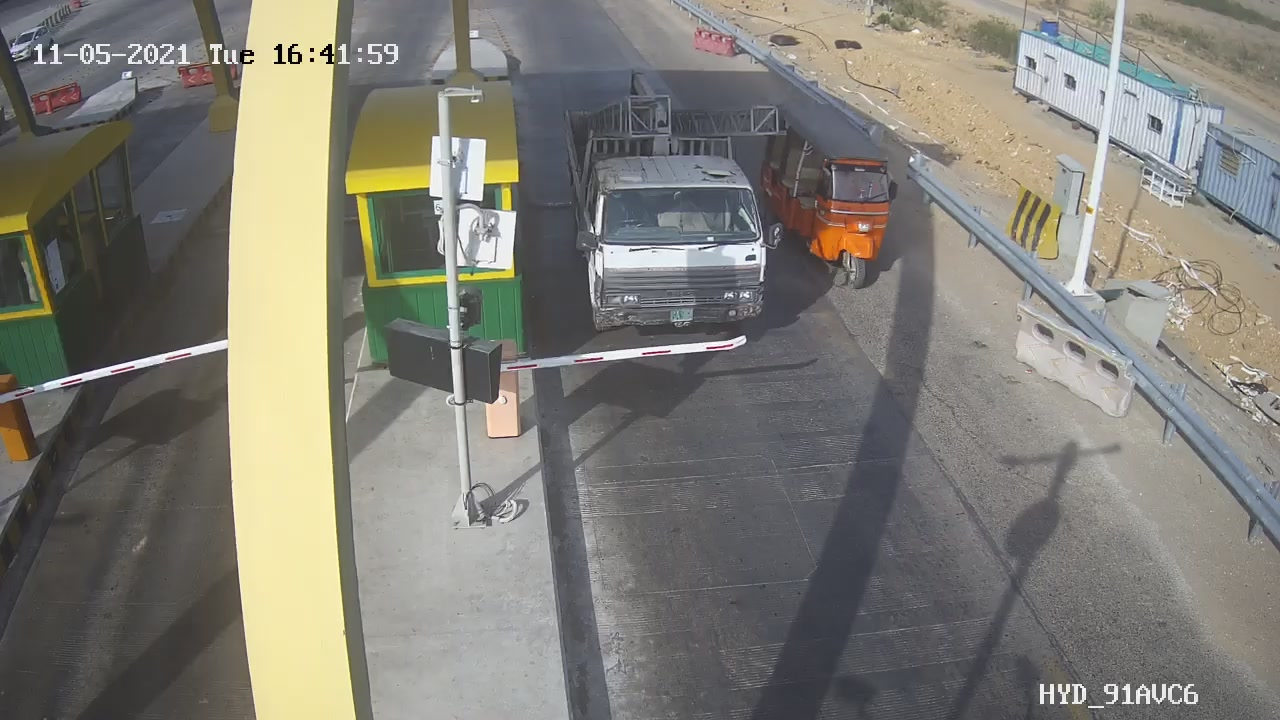F3: (543, 60, 794, 351)
